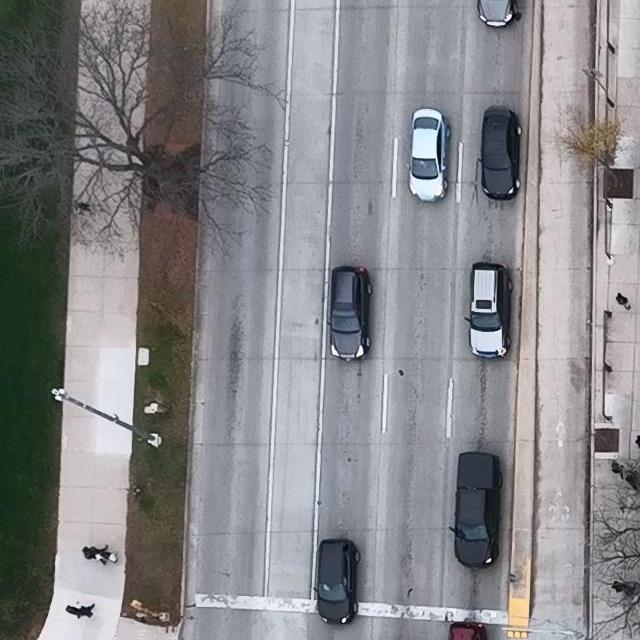car: (448, 451, 503, 569), (464, 262, 514, 358), (327, 264, 372, 363), (477, 106, 522, 200), (407, 108, 451, 203), (312, 539, 360, 626), (477, 0, 517, 27), (448, 622, 488, 640)
